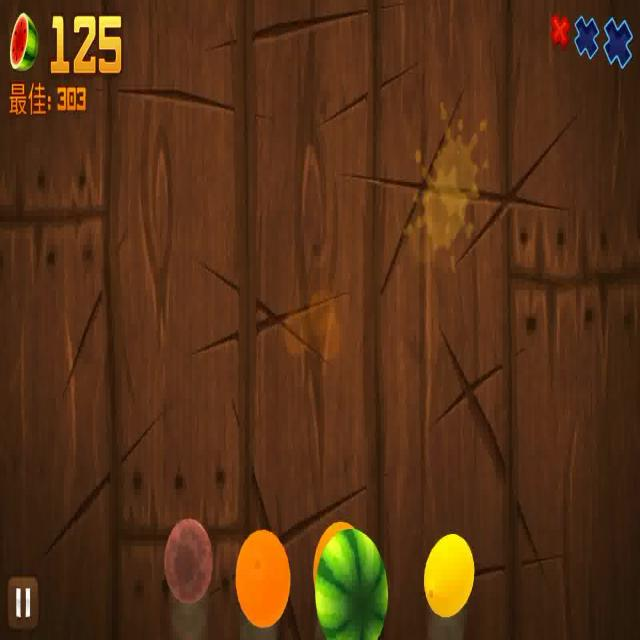fruit: (317, 532, 389, 640), (235, 527, 292, 626), (424, 531, 474, 615), (162, 520, 212, 604), (314, 521, 353, 585)
